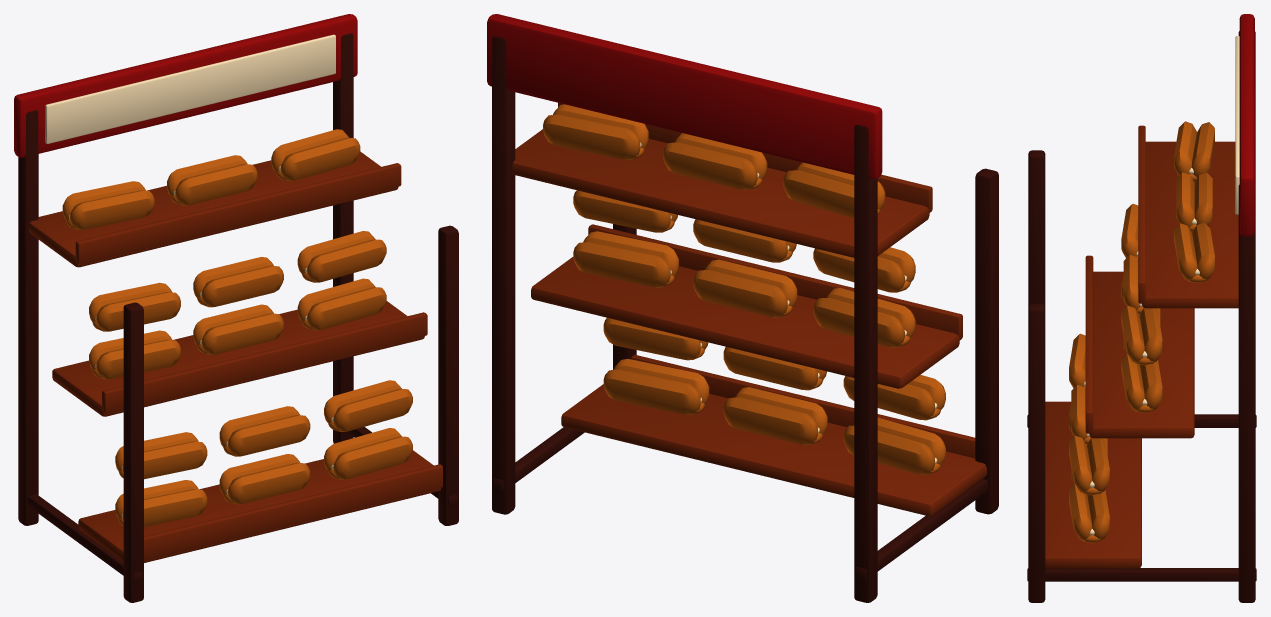
File: BunRack.obj
The picture shows the model from 3 angles, left to right: view 1: azimuth 30°, elevation 25°; view 2: azimuth 150°, elevation 25°; view 3: azimuth 270°, elevation 25°; orthographic projection. The views are drawn at different scales.
Visible parts, largest first — view 1: BunRack; view 2: BunRack; view 3: BunRack.
Boxes of the visible parts, box(x1,y1,x2,y2) form: BunRack: box(14, 14, 458, 602); BunRack: box(487, 14, 998, 602); BunRack: box(1027, 14, 1256, 602).
Size of the model in its own units: 4.1 by 4.95 by 2.4.
